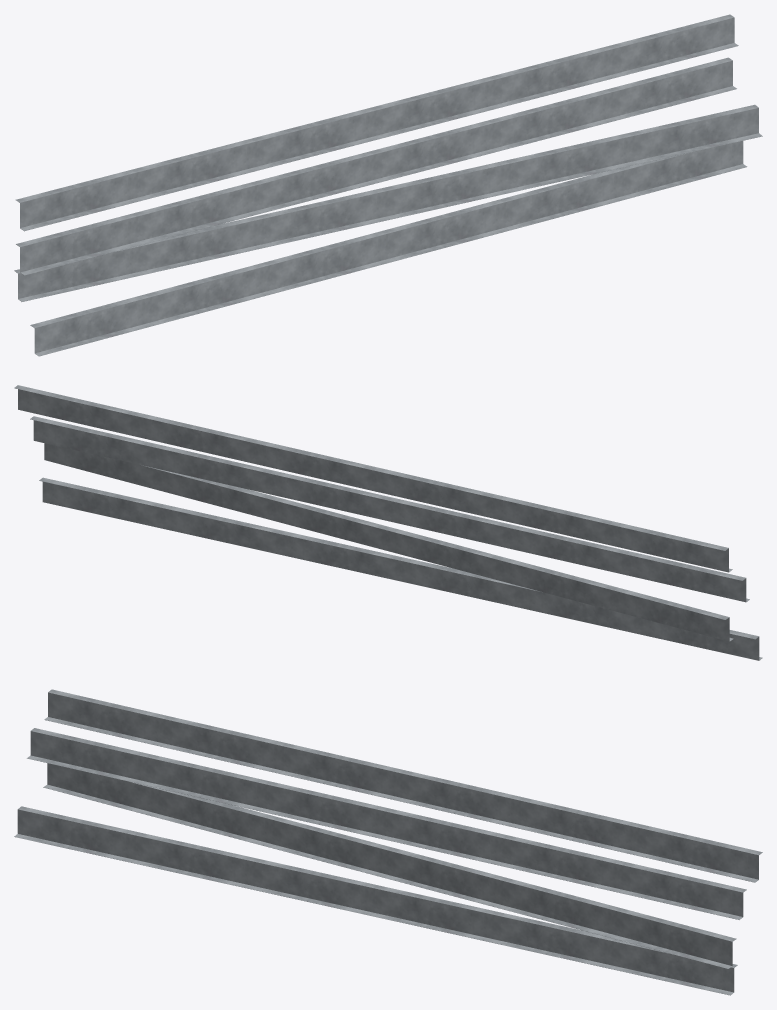
Rendered from COB-CAL-004_anim.glb.
The picture shows the model from 3 angles, top to bottom: view 1: azimuth 30°, elevation 25°; view 2: azimuth 150°, elevation 25°; view 3: azimuth 330°, elevation 25°; orthographic projection. The views are drawn at different scales.
Visible parts, largest first — view 1: COB-CAL-004_anim3, COB-CAL-004_anim2, COB-CAL-004_anim1, COB-CAL-004_anim0; view 2: COB-CAL-004_anim2, COB-CAL-004_anim3, COB-CAL-004_anim1, COB-CAL-004_anim0; view 3: COB-CAL-004_anim2, COB-CAL-004_anim3, COB-CAL-004_anim0, COB-CAL-004_anim1.
Boxes of the visible parts, x1,y1,x2,y2 form: COB-CAL-004_anim3: (15, 14, 738, 231); COB-CAL-004_anim2: (16, 57, 736, 275); COB-CAL-004_anim1: (14, 104, 762, 301); COB-CAL-004_anim0: (30, 141, 747, 356); COB-CAL-004_anim2: (30, 416, 749, 602); COB-CAL-004_anim3: (14, 385, 732, 572); COB-CAL-004_anim1: (44, 443, 733, 641); COB-CAL-004_anim0: (39, 477, 762, 660); COB-CAL-004_anim2: (27, 728, 746, 919); COB-CAL-004_anim3: (44, 689, 762, 882); COB-CAL-004_anim0: (14, 806, 737, 995); COB-CAL-004_anim1: (43, 763, 736, 968).
Size of the model in its own units: 3.04 by 0.5205 by 0.3055.
1 material, 1 textured.
